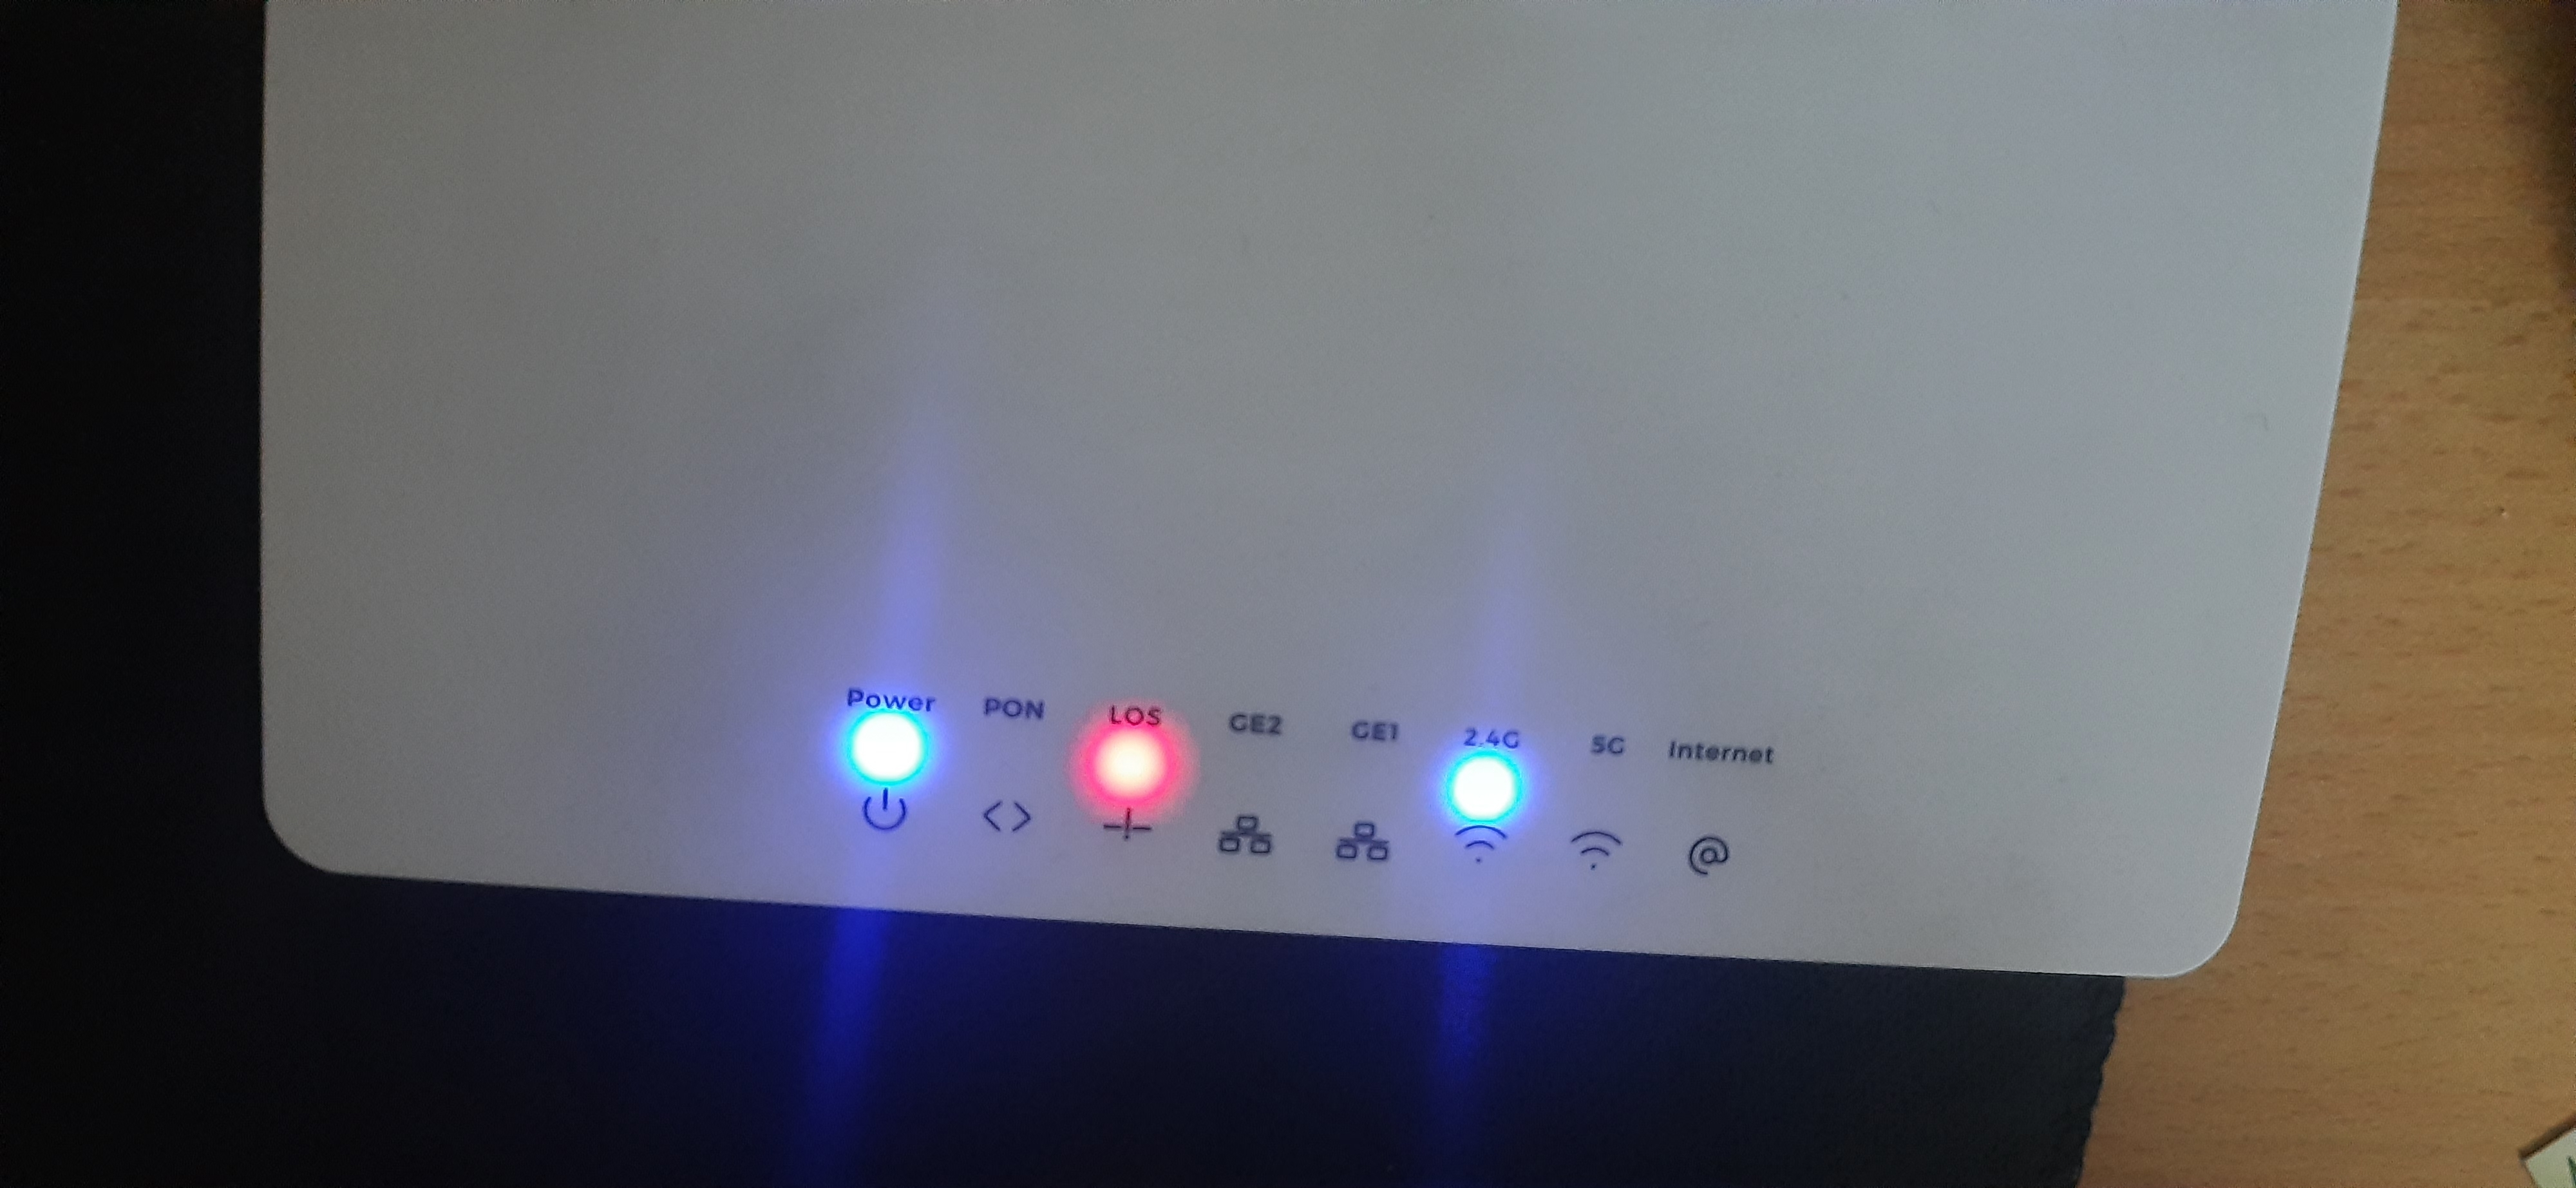LOSConnectionIssue: (1058, 682, 1222, 859)
